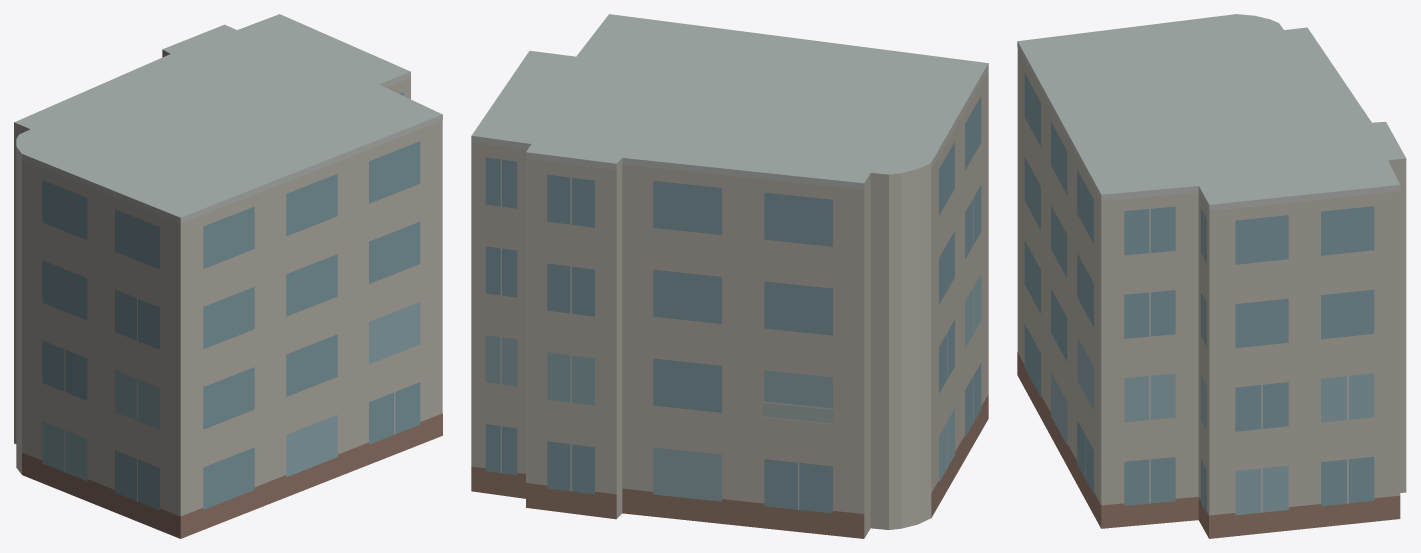
The model's file is survey-upis-32664976.glb.
3 renders of one model, left to right at view 1: azimuth 30°, elevation 25°; view 2: azimuth 150°, elevation 25°; view 3: azimuth 270°, elevation 25°, orthographic. The views are drawn at different scales.
Visible parts, largest first — view 1: survey-upis-32664976.tmp; view 2: survey-upis-32664976.tmp; view 3: survey-upis-32664976.tmp.
Boxes of the visible parts, x1,y1,x2,y2 form: survey-upis-32664976.tmp: (14,14,442,538); survey-upis-32664976.tmp: (471,14,988,538); survey-upis-32664976.tmp: (1017,14,1406,538).
Bounding box in the file's own units: 16.08 × 13.12 × 13.85.
